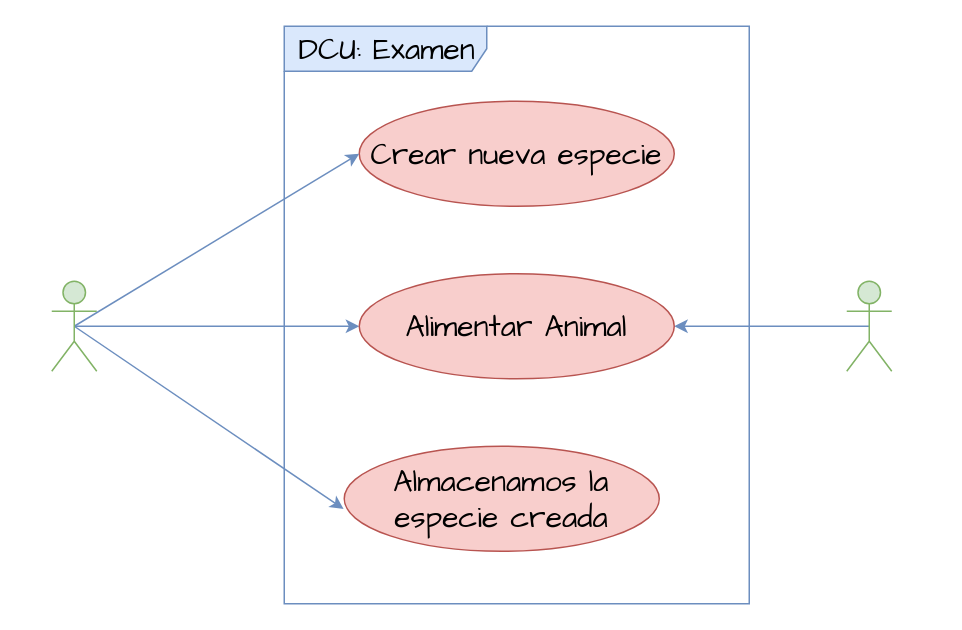
The diagram is 962 pixels wide and 630 high, and some of its shapes have lost their labels. The shapes that lost their labels are listed below. From the top down, each one's centre as x and y in pixels, then its label:
At point (73, 325): "Biologo".
At point (868, 325): "Aplicación".
